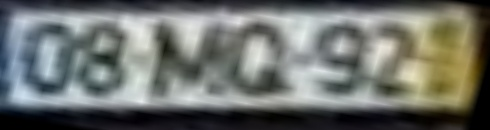0: (15, 18, 83, 101)
2: (373, 22, 432, 99)
8: (74, 21, 136, 102)
9: (312, 21, 378, 101)
M: (149, 20, 232, 104)
Q: (228, 20, 299, 101)
